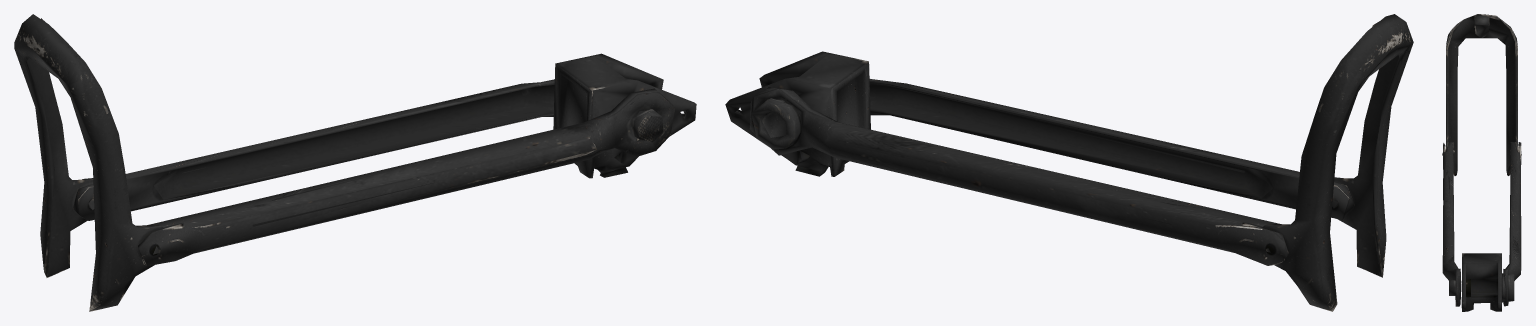
File: SkeletonizedStock.fbx
The picture shows the model from 3 angles, left to right: view 1: azimuth 30°, elevation 25°; view 2: azimuth 150°, elevation 25°; view 3: azimuth 270°, elevation 25°; orthographic projection. The views are drawn at different scales.
Visible parts, largest first — view 1: reducedStockWire.001; view 2: reducedStockWire.001; view 3: reducedStockWire.001.
Part boxes in pixels (x1=…): reducedStockWire.001: x1=14, y1=14, x2=696, y2=311; reducedStockWire.001: x1=725, y1=14, x2=1413, y2=311; reducedStockWire.001: x1=1442, y1=14, x2=1521, y2=311.
Size of the model in its own units: 0.2021 by 0.0833 by 0.0398.
